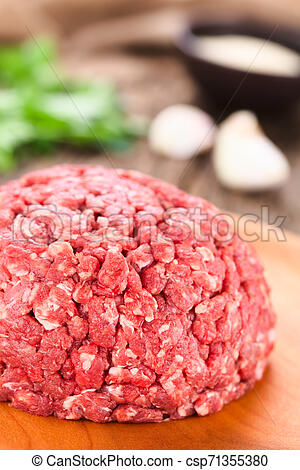ground_beef: (1, 164, 270, 417)
